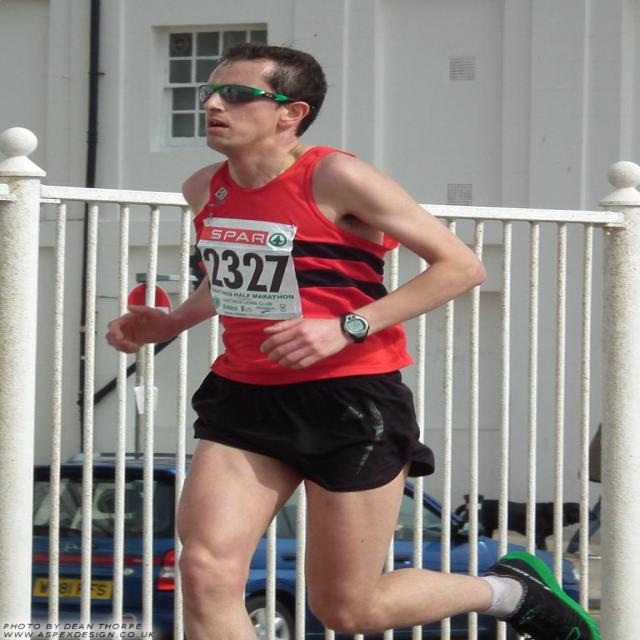Bib: (204, 250, 292, 296)
